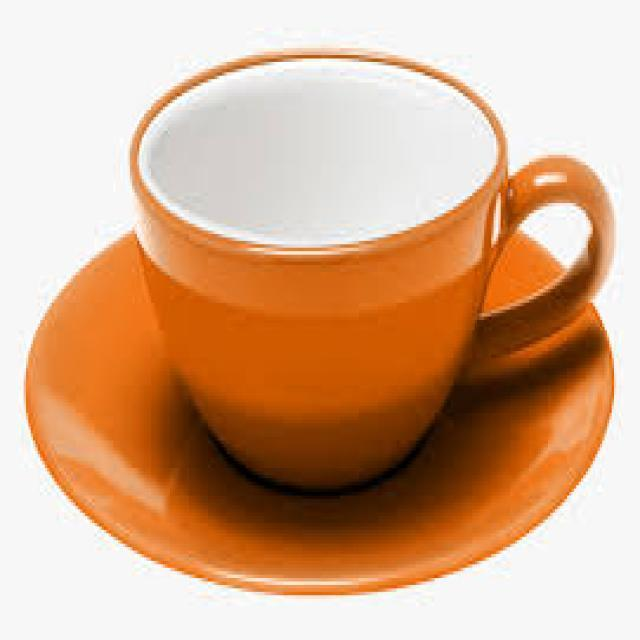taza: (113, 34, 625, 508)
